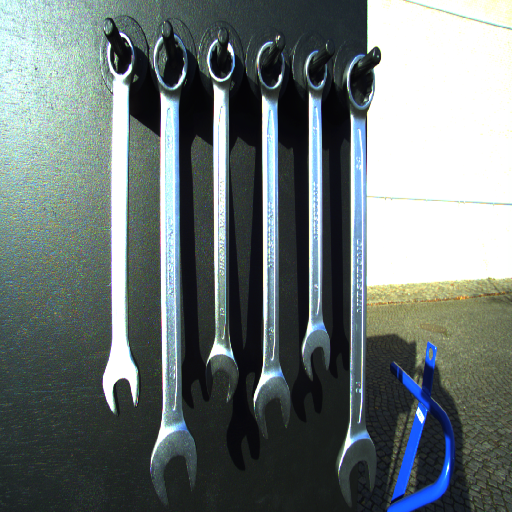bottom: (149, 429, 199, 507), (335, 435, 378, 508), (252, 375, 293, 441), (101, 361, 140, 416), (205, 348, 239, 403), (300, 326, 332, 382)
top: (151, 32, 192, 92), (340, 52, 376, 110), (103, 30, 138, 82), (253, 40, 288, 92), (203, 37, 239, 84), (302, 48, 330, 92)
